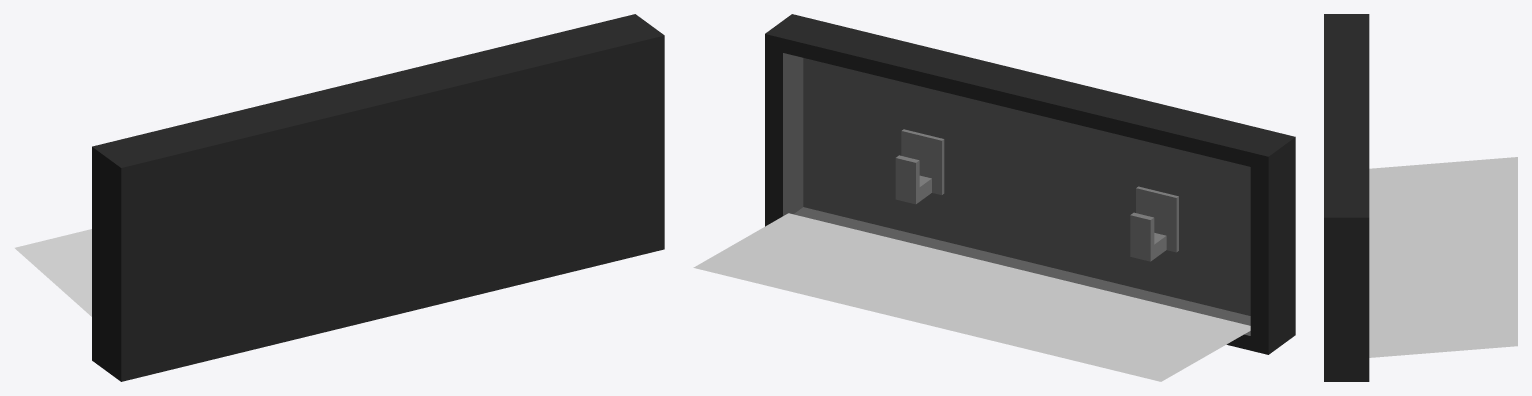
Rendered from SwordCaseModel.fbx.
The picture shows the model from 3 angles, left to right: view 1: azimuth 30°, elevation 25°; view 2: azimuth 150°, elevation 25°; view 3: azimuth 270°, elevation 25°; orthographic projection. The views are drawn at different scales.
Visible parts, largest first — view 1: SwordCaseModel; view 2: SwordCaseModel; view 3: SwordCaseModel.
Part boxes in pixels (left/top/right/bottom): SwordCaseModel: left=15, top=14, right=664, bottom=381; SwordCaseModel: left=693, top=14, right=1295, bottom=381; SwordCaseModel: left=1324, top=14, right=1517, bottom=381.
Bounding box in the file's own units: 181 × 68.09 × 72.77.
